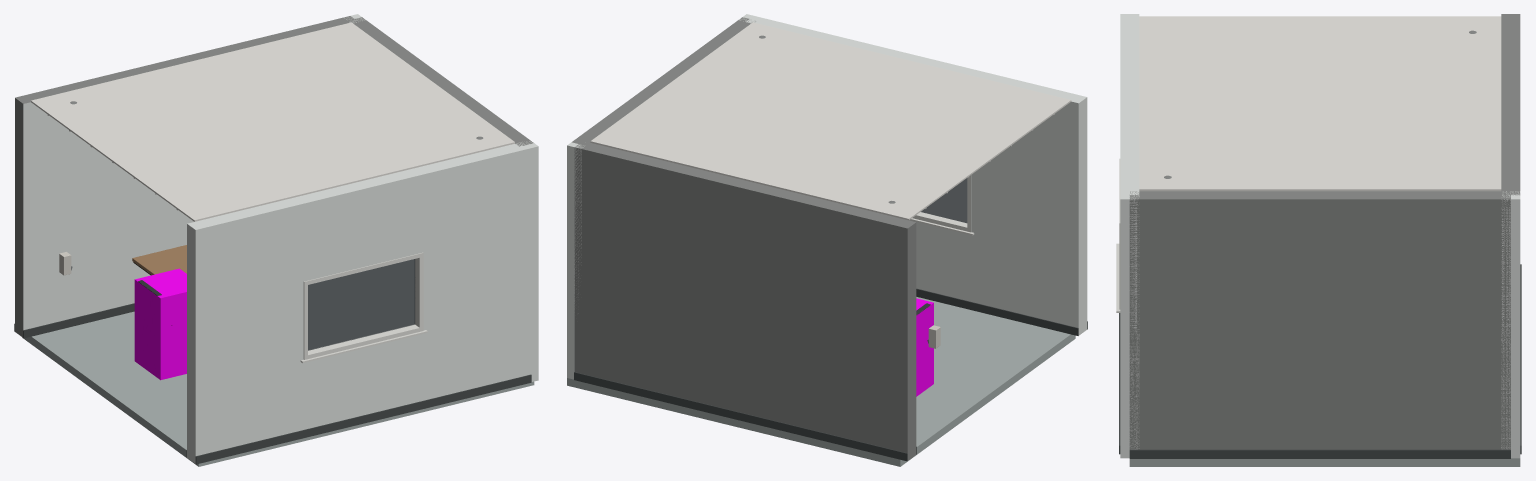
File: ENV_ClinicalAssessmentRoom.glb
3 views of the same model, side by side, from view 1: azimuth 30°, elevation 25°; view 2: azimuth 150°, elevation 25°; view 3: azimuth 270°, elevation 25° (orthographic). The views are drawn at different scales.
Visible parts, largest first — view 1: ENV_ClinicalAssessmentRoom_Architecture, ENV_ClinicalAssessmentRoom_Ceiling, PROP_Chair_Office_COL-colonly.007, ENV_ClinicalAssessmentRoom_Posts, PROP_Table_Interview_Fixed_Mesh; view 2: ENV_ClinicalAssessmentRoom_Architecture, ENV_ClinicalAssessmentRoom_Ceiling, ENV_ClinicalAssessmentRoom_Posts, PROP_Chair_Office_COL-colonly.007; view 3: ENV_ClinicalAssessmentRoom_Architecture, ENV_ClinicalAssessmentRoom_Ceiling, ENV_ClinicalAssessmentRoom_Posts.
Part boxes in pixels (box(x1,y1,x2,y2)): ENV_ClinicalAssessmentRoom_Architecture: box(14, 16, 534, 466); ENV_ClinicalAssessmentRoom_Ceiling: box(31, 22, 514, 221); PROP_Chair_Office_COL-colonly.007: box(134, 268, 186, 380); ENV_ClinicalAssessmentRoom_Posts: box(344, 14, 538, 381); PROP_Table_Interview_Fixed_Mesh: box(132, 245, 186, 275); ENV_ClinicalAssessmentRoom_Architecture: box(567, 16, 1087, 466); ENV_ClinicalAssessmentRoom_Ceiling: box(590, 22, 1071, 220); ENV_ClinicalAssessmentRoom_Posts: box(567, 14, 759, 379); PROP_Chair_Office_COL-colonly.007: box(916, 298, 933, 396); ENV_ClinicalAssessmentRoom_Architecture: box(1116, 14, 1521, 466); ENV_ClinicalAssessmentRoom_Ceiling: box(1139, 16, 1501, 191); ENV_ClinicalAssessmentRoom_Posts: box(1120, 191, 1520, 458).
Size of what is drawn, in the model's own units: 4.61 by 3.13 by 4.25.
